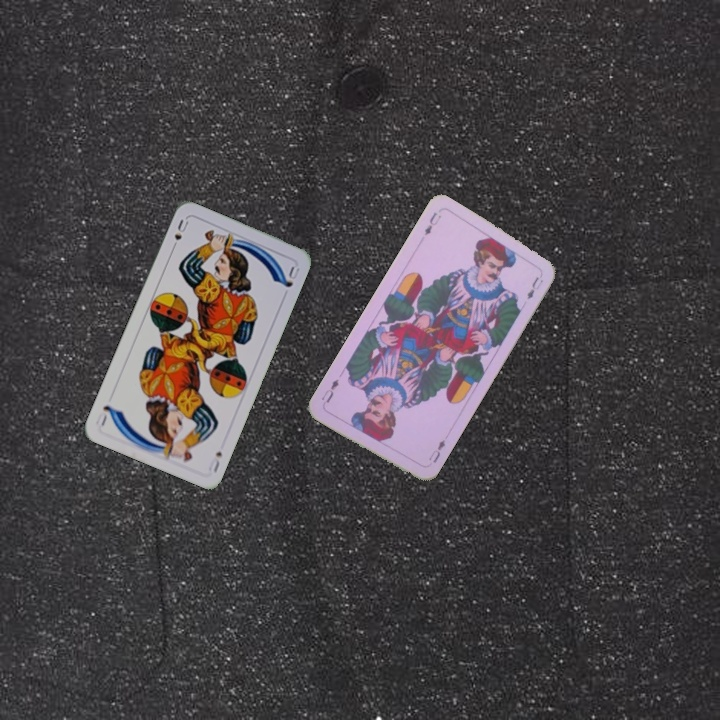EU: (424, 436, 448, 466), (420, 208, 444, 238)
SU: (167, 215, 191, 254), (204, 447, 224, 475)
